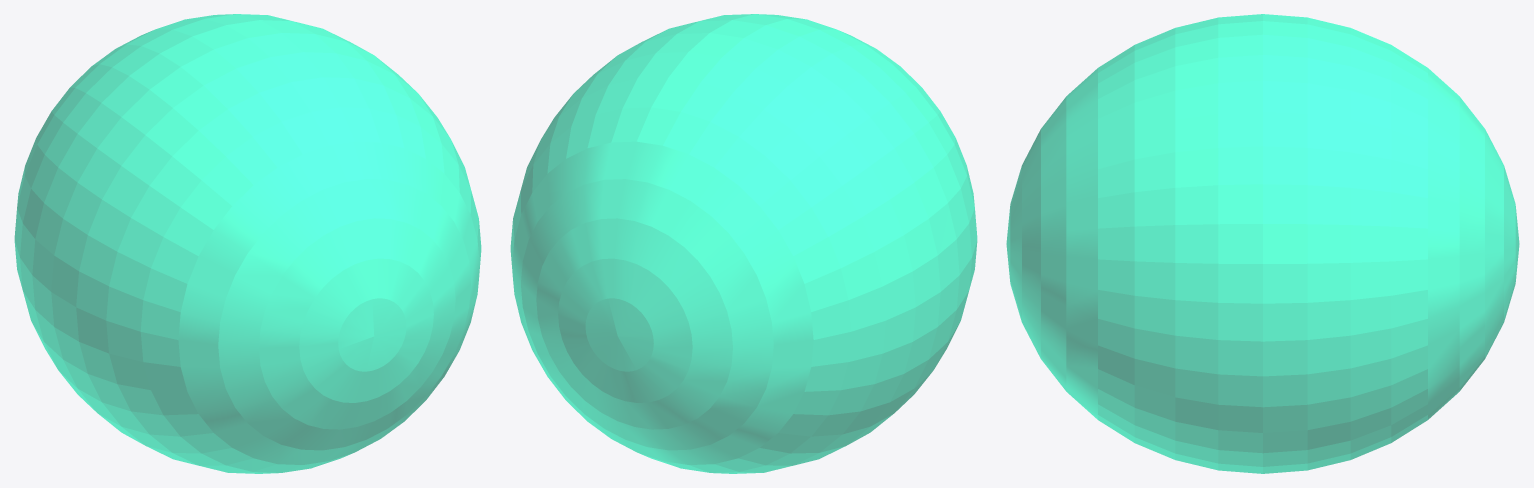
Rendered from terra.gltf.
3 renders of one model, left to right at view 1: azimuth 30°, elevation 25°; view 2: azimuth 150°, elevation 25°; view 3: azimuth 270°, elevation 25°, orthographic.
Parts seen in each view (by area): view 1: group_0_1307254; view 2: group_0_1307254; view 3: group_0_1307254.
Part boxes in pixels (x1,y1,x2,y2): group_0_1307254: (14, 14, 481, 473); group_0_1307254: (510, 14, 977, 473); group_0_1307254: (1006, 14, 1519, 473).
Bounding box in the file's own units: 0.18 × 0.18 × 0.2.
